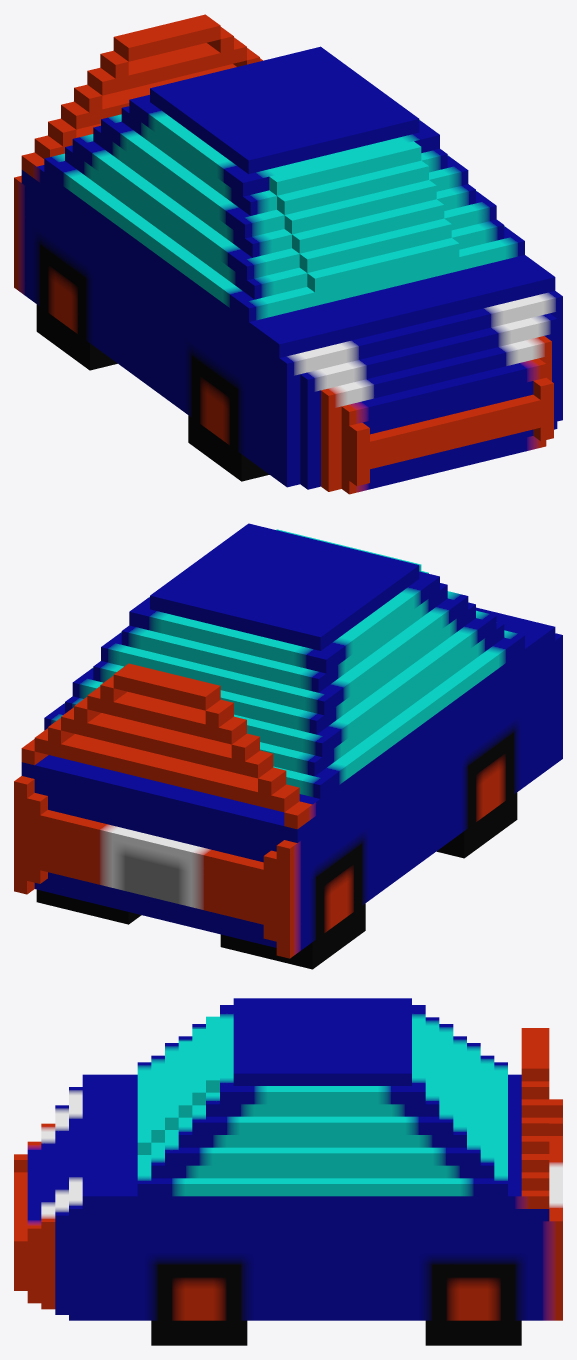
The model's file is Car_14.fbx.
The picture shows the model from 3 angles, top to bottom: view 1: azimuth 30°, elevation 25°; view 2: azimuth 150°, elevation 25°; view 3: azimuth 270°, elevation 25°; orthographic projection. The views are drawn at different scales.
Parts seen in each view (by area): view 1: Car_14; view 2: Car_14; view 3: Car_14.
Boxes of the visible parts, box(x1,y1,x2,y2) form: Car_14: box(14, 14, 562, 494); Car_14: box(14, 523, 562, 969); Car_14: box(14, 998, 562, 1345).
Size of the model in its own units: 21 by 20 by 40.
1 material, 1 textured.
